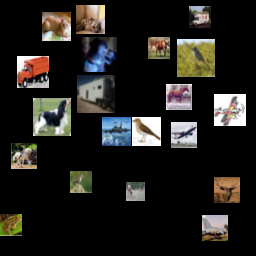airplane: (61, 105, 93, 137), (190, 88, 216, 114)
automobile: (192, 210, 230, 248), (149, 192, 178, 221)
bird: (95, 177, 124, 206)
cat: (73, 18, 95, 40), (16, 113, 35, 132)
deer: (136, 13, 155, 32), (89, 211, 105, 227)
dog: (122, 123, 144, 145)
frog: (99, 65, 137, 103), (203, 34, 225, 56)
ship: (193, 115, 231, 153), (157, 9, 195, 47), (173, 160, 195, 182), (96, 17, 115, 36), (156, 82, 172, 98)
